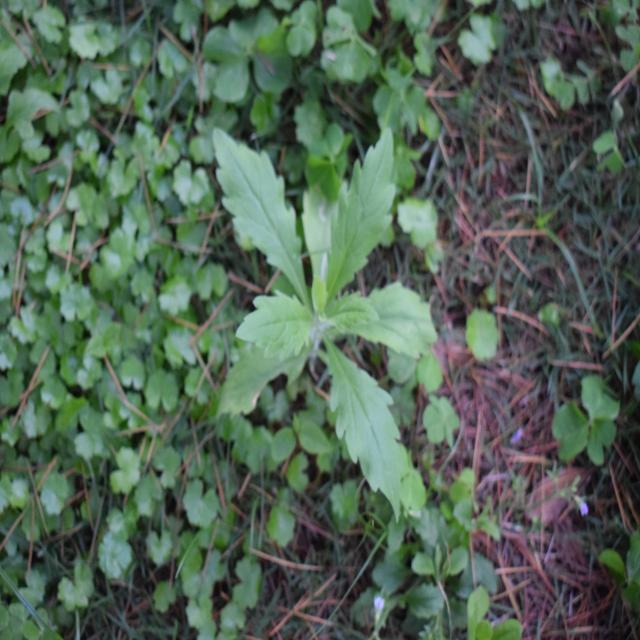horseweed: (211, 126, 427, 526)
